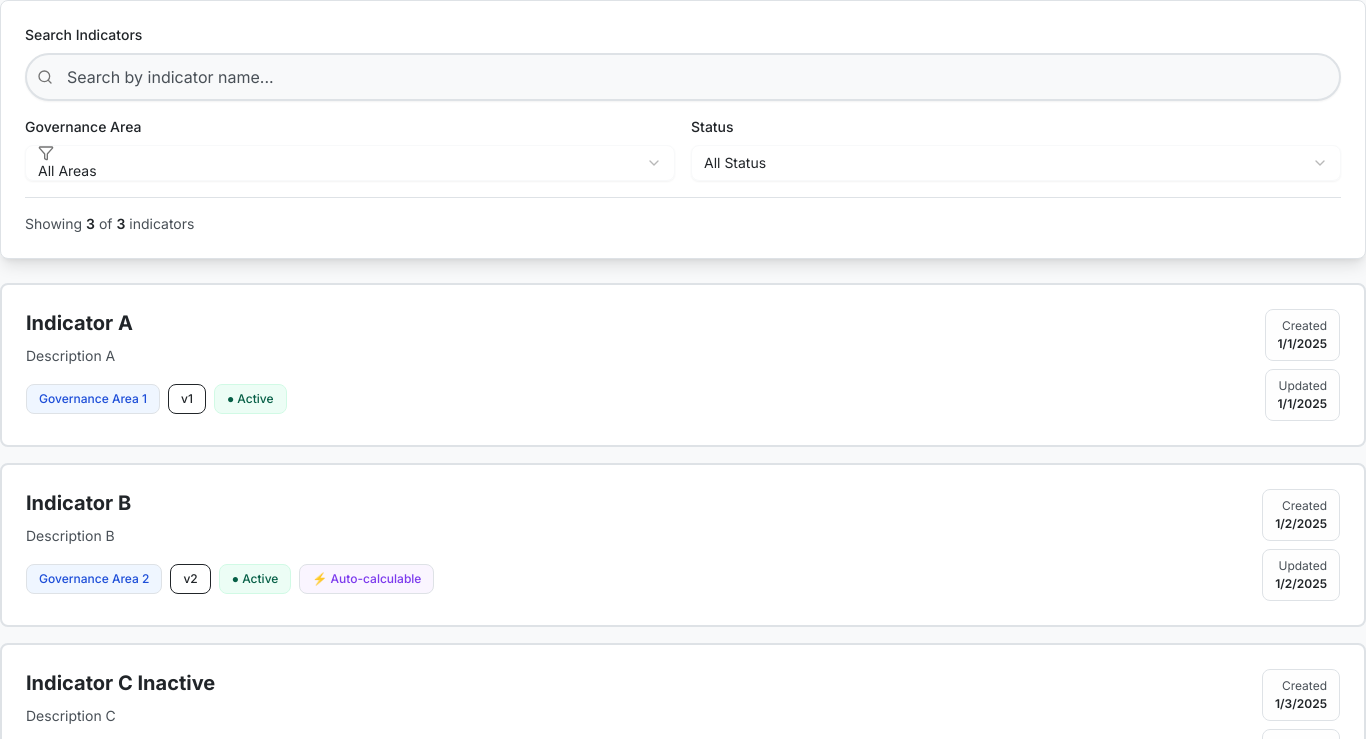
IndicatorList › displays clear filters button when filters are active
Expected: the text "clear filters" is not shown
// Type in search
Type "test" into the field with placeholder "Search by indicator name..." at {"x": 683, "y": 77}, box top-left (25, 53), bottom-right (1341, 101)
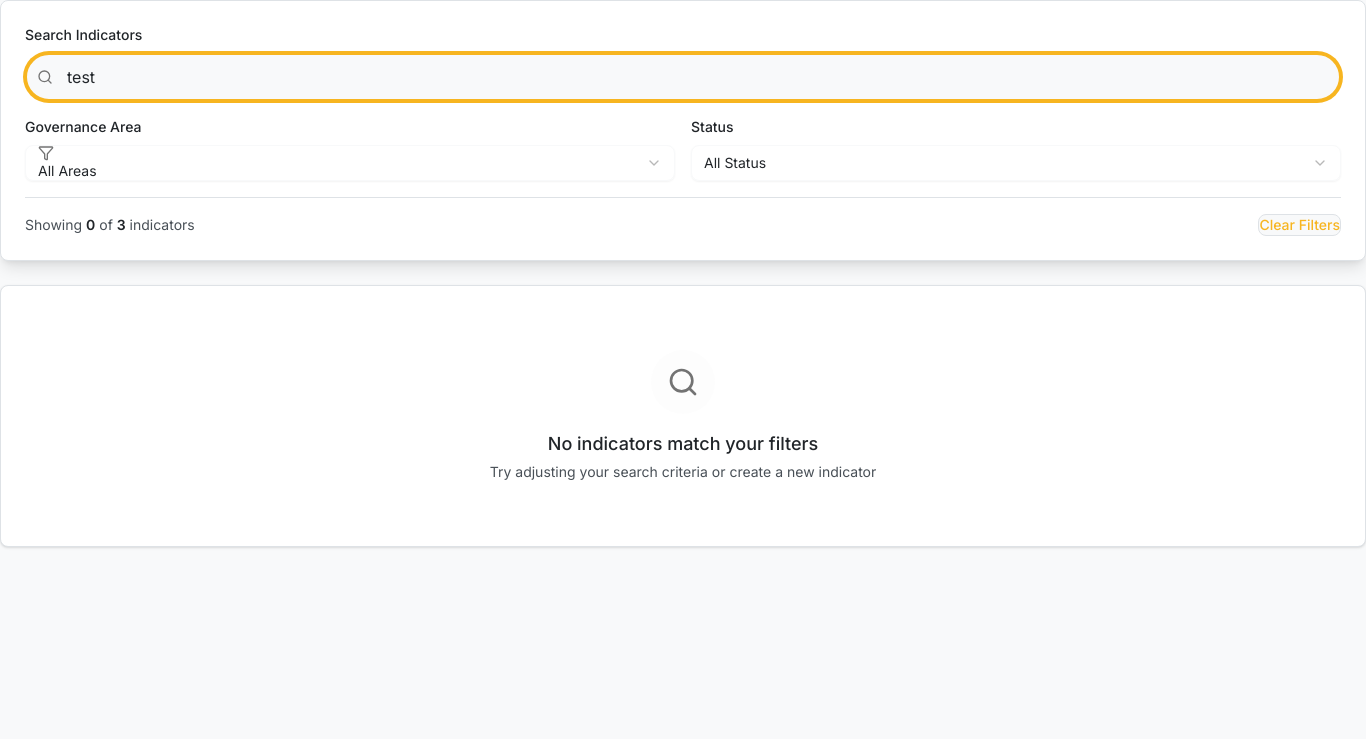
Expected: the button "Clear Filters" is shown
// Click clear filters
Click the button "Clear Filters" at {"x": 1300, "y": 225}, box top-left (1258, 214), bottom-right (1341, 236)
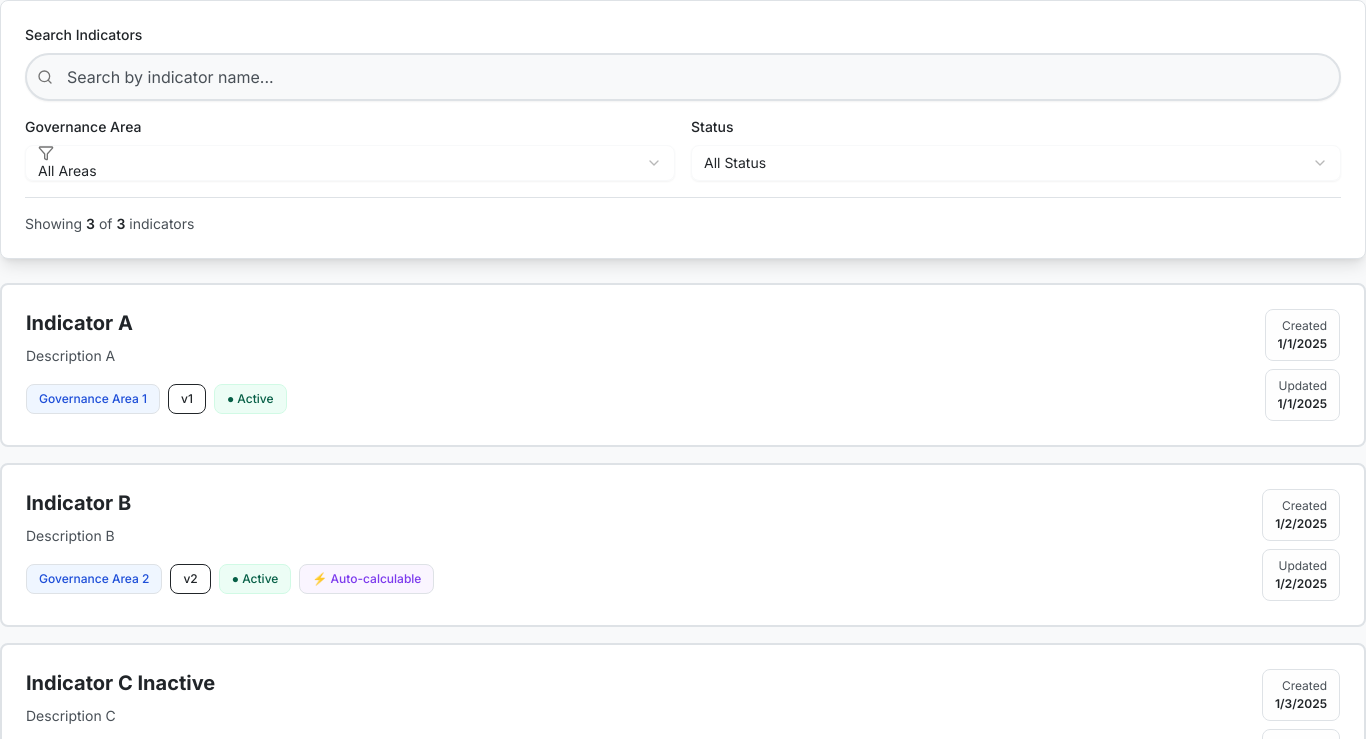
Expected: the field with placeholder "Search by indicator name..." is empty, top-left (25, 53), bottom-right (1341, 101)
